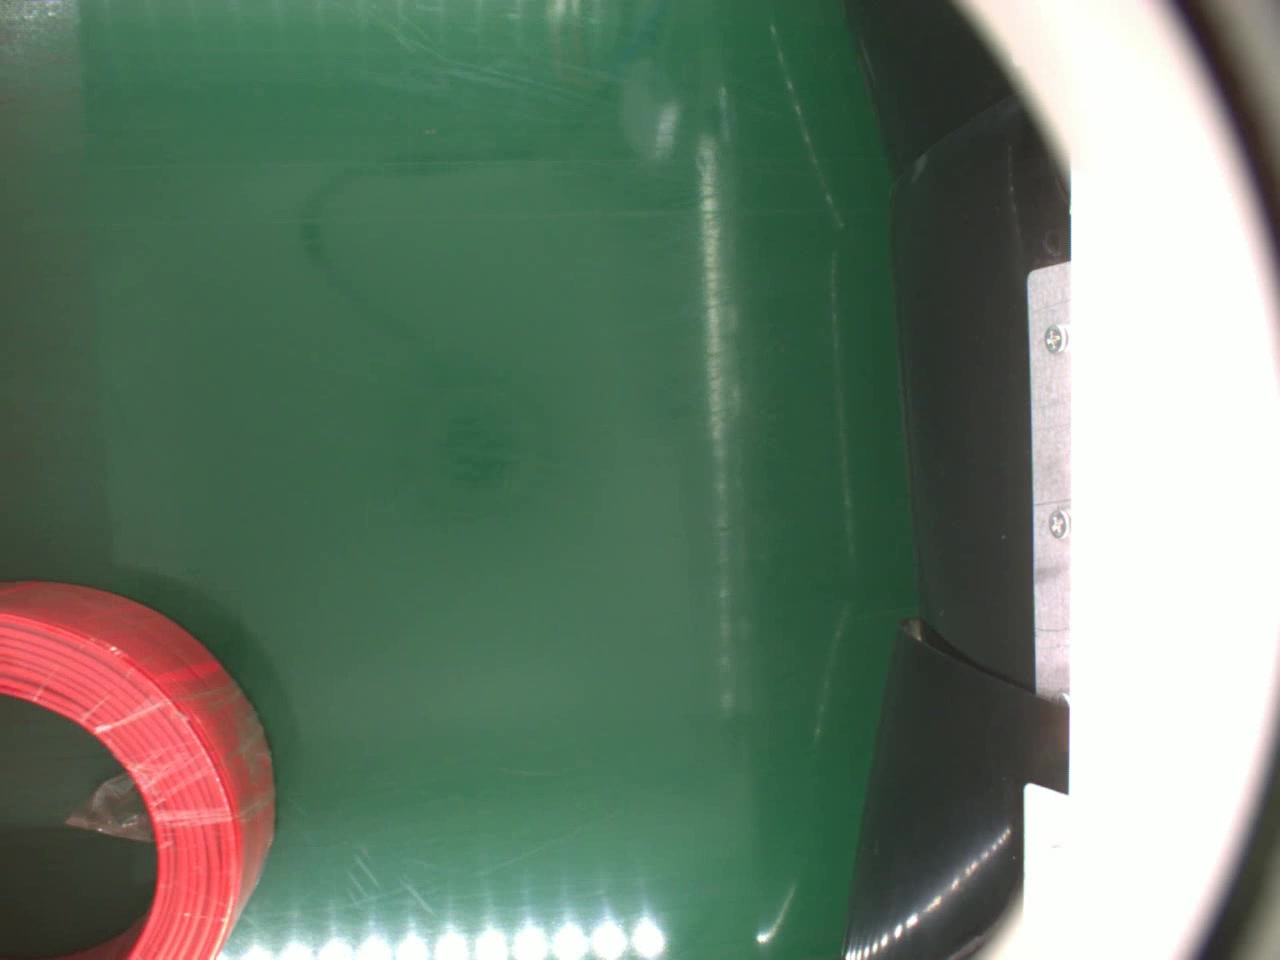red: (0, 576, 278, 960)
